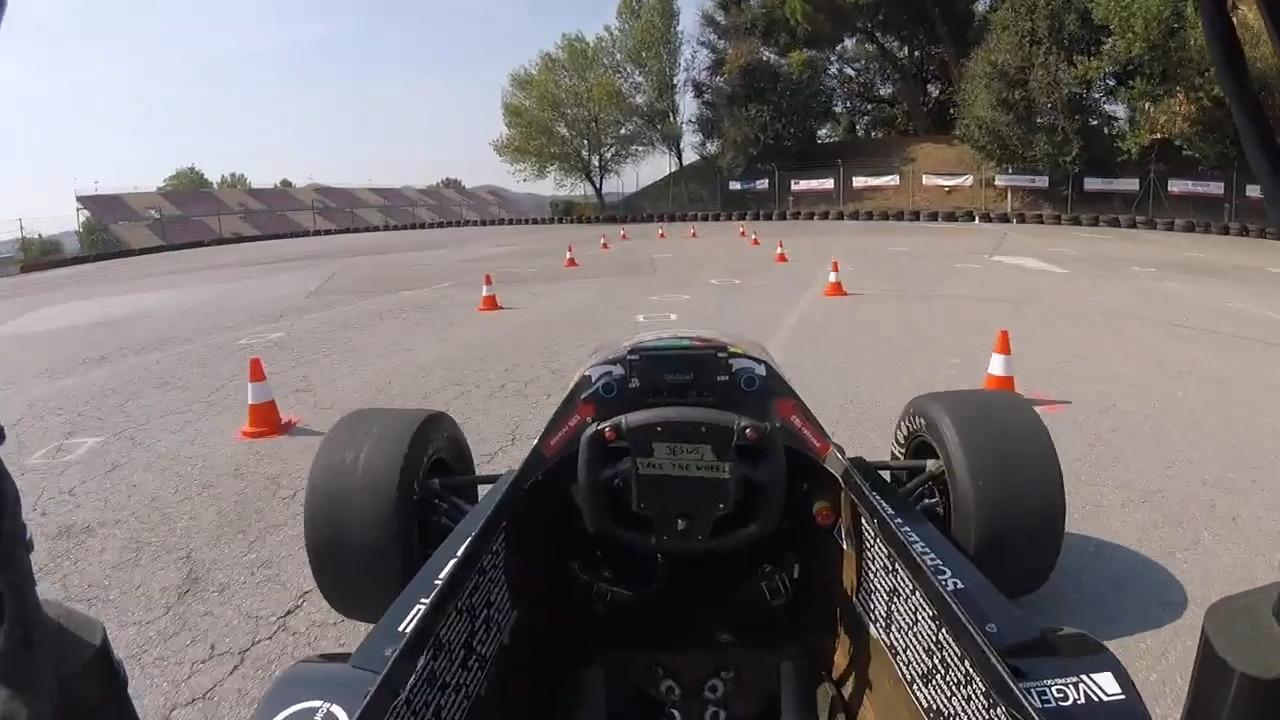orange_cone: (239, 359, 295, 442), (971, 330, 1026, 412), (478, 272, 506, 313), (822, 260, 850, 301), (562, 244, 581, 268), (774, 240, 791, 262), (748, 230, 761, 248), (598, 234, 611, 249), (688, 224, 699, 238), (656, 226, 667, 238), (738, 224, 747, 238), (618, 227, 627, 239)
